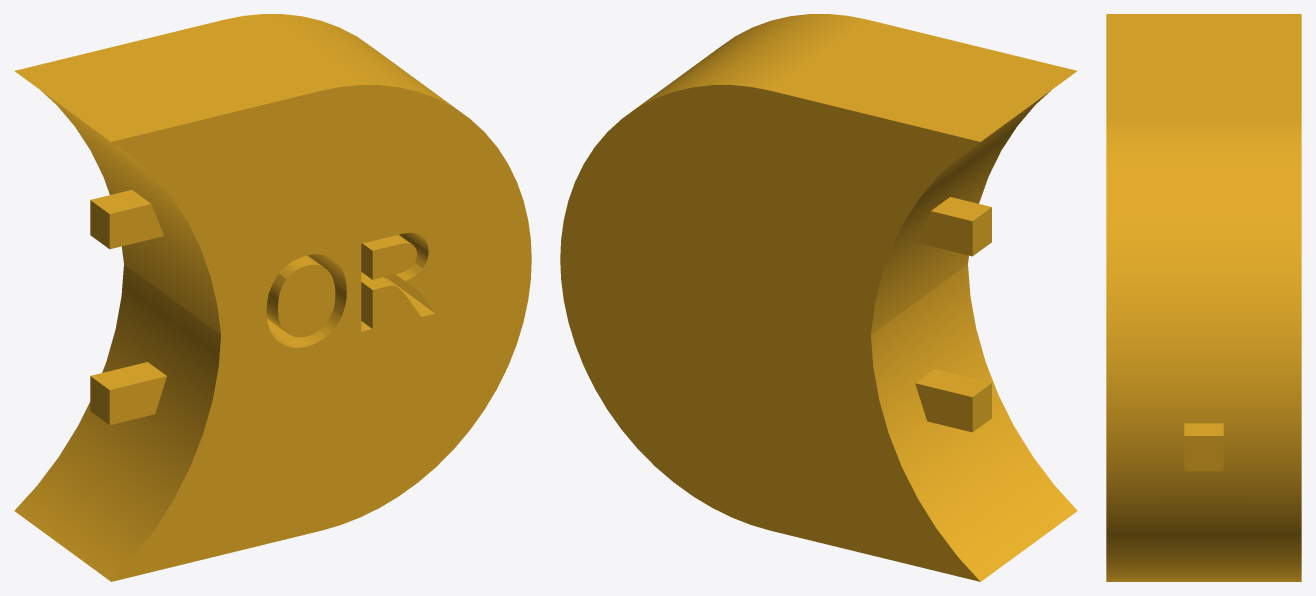
Rendered from or+gate.fbx.
3 renders of one model, left to right at view 1: azimuth 30°, elevation 25°; view 2: azimuth 150°, elevation 25°; view 3: azimuth 270°, elevation 25°, orthographic.
Visible parts, largest first — view 1: Body1; view 2: Body1; view 3: Body1.
Part boxes in pixels (x1,y1,x2,y2): Body1: (14, 14, 531, 581); Body1: (560, 14, 1077, 581); Body1: (1106, 14, 1301, 581).
Bounding box in the file's own units: 53 × 50 × 20.
